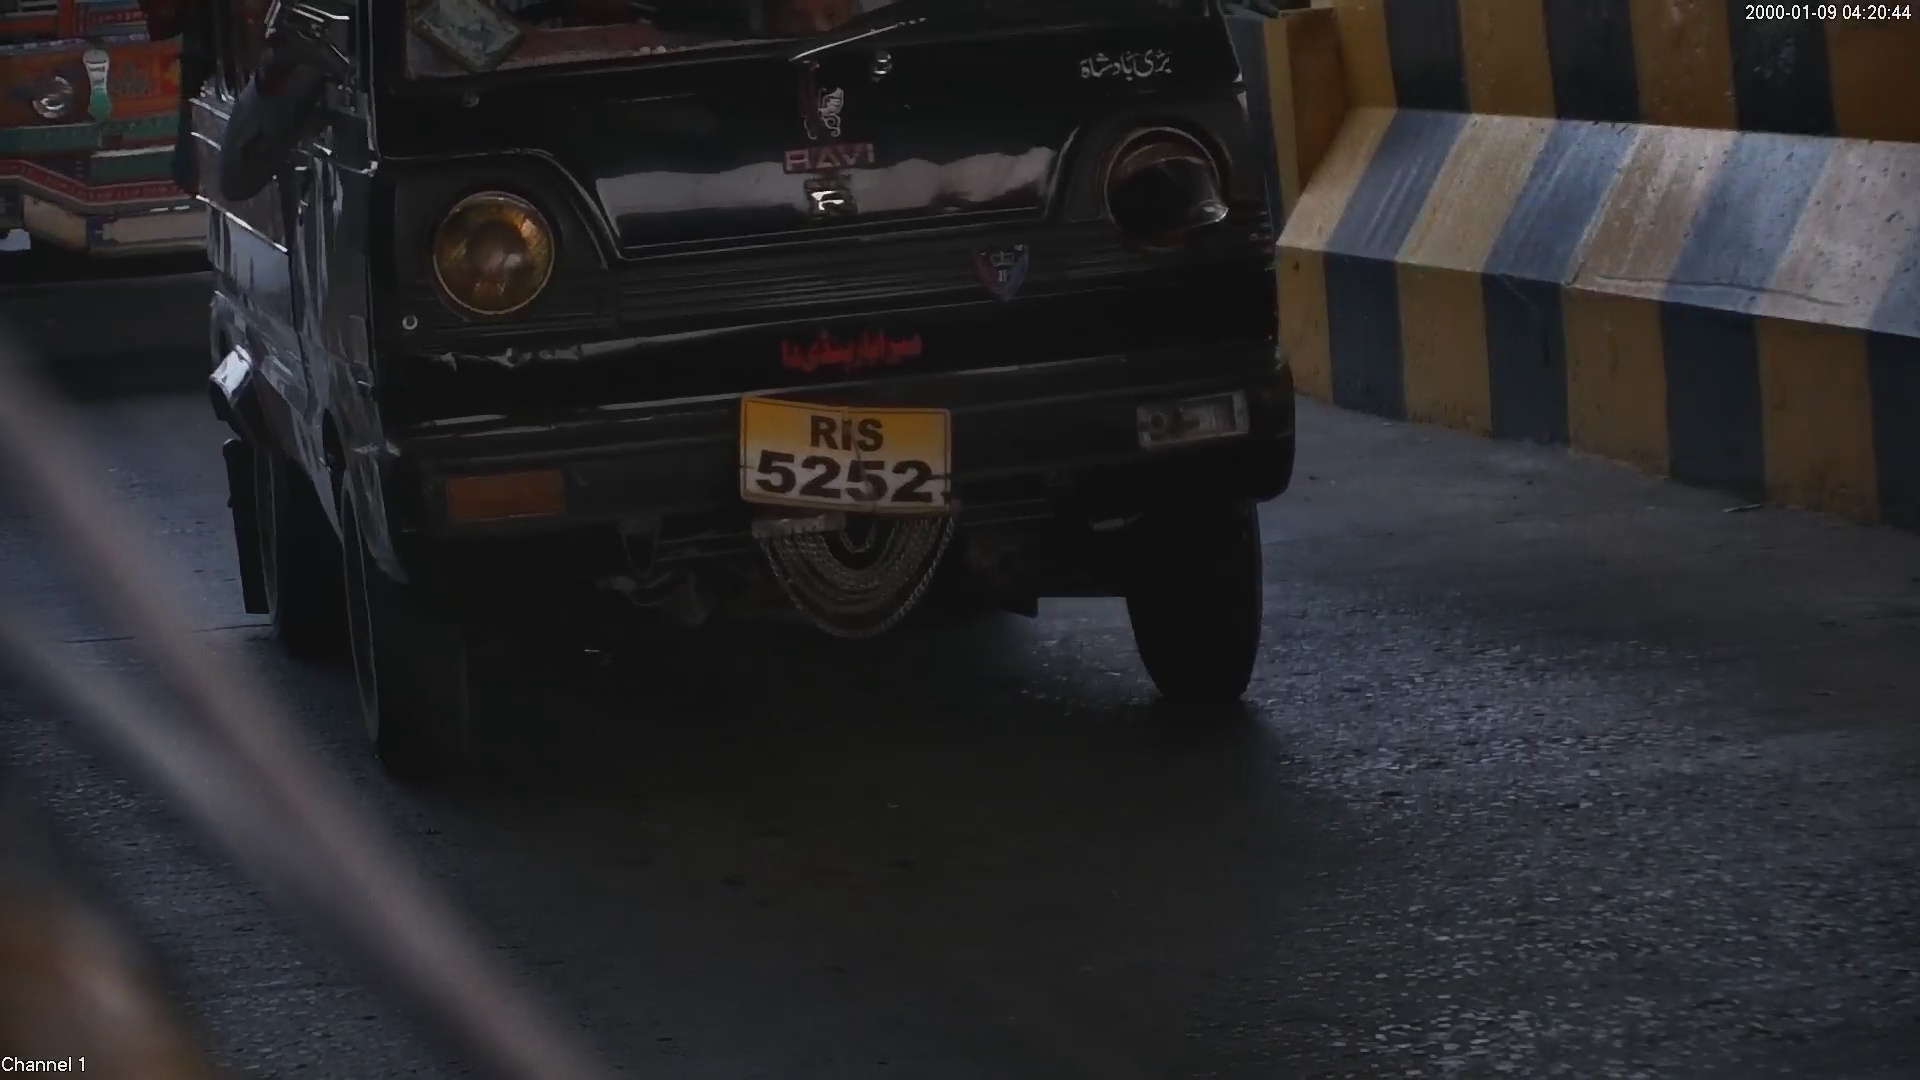Number_Plate: (715, 386, 976, 523)
Undefined: (743, 518, 967, 638), (769, 79, 887, 223), (752, 325, 939, 375), (1073, 40, 1191, 86), (960, 238, 1041, 303)
